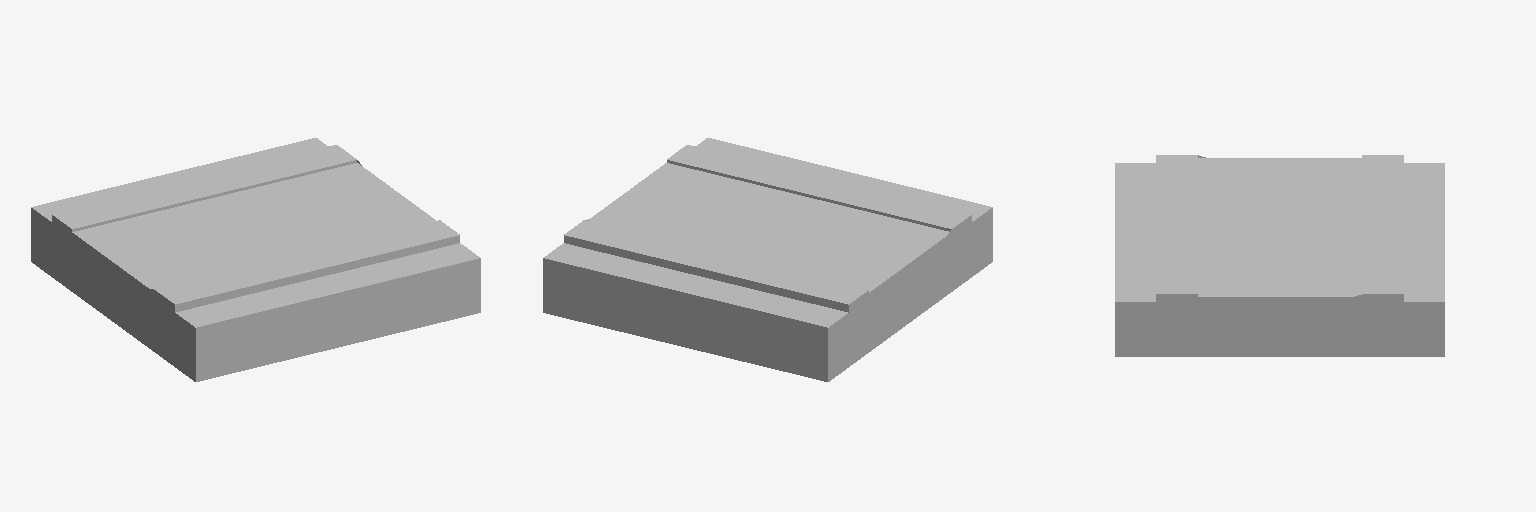
The model's file is roadTile_162.obj.
3 renders of one model, left to right at view 1: azimuth 30°, elevation 25°; view 2: azimuth 150°, elevation 25°; view 3: azimuth 270°, elevation 25°, orthographic.
Visible parts, largest first — view 1: Mesh1_Group1_Model; view 2: Mesh1_Group1_Model; view 3: Mesh1_Group1_Model.
Boxes of the visible parts, x1,y1,x2,y2 form: Mesh1_Group1_Model: [31, 138, 480, 381]; Mesh1_Group1_Model: [543, 138, 992, 381]; Mesh1_Group1_Model: [1115, 155, 1444, 356].
Size of the model in its own units: 1.08 by 0.2268 by 1.08.